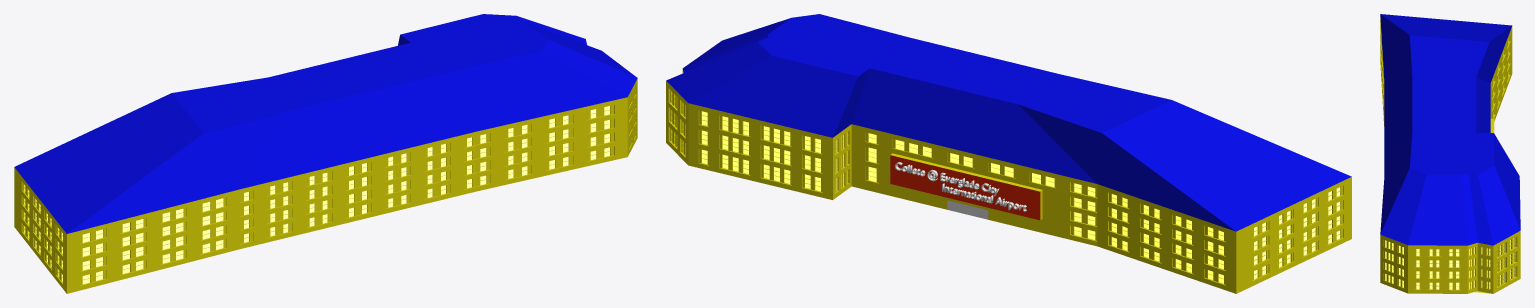
File: collete_hotel_ECIA.fbx
3 views of the same model, side by side, from view 1: azimuth 30°, elevation 25°; view 2: azimuth 150°, elevation 25°; view 3: azimuth 270°, elevation 25° (orthographic). The views are drawn at different scales.
Visible parts, largest first — view 1: Plane; view 2: Plane, Text; view 3: Plane.
Boxes of the visible parts, x1=… form: Plane: x1=14, y1=14, x2=637, y2=293; Plane: x1=666, y1=14, x2=1351, y2=293; Text: x1=894, y1=162, x2=1026, y2=211; Plane: x1=1380, y1=14, x2=1520, y2=293.
Size of the model in its own units: 3087 by 547 by 790.
